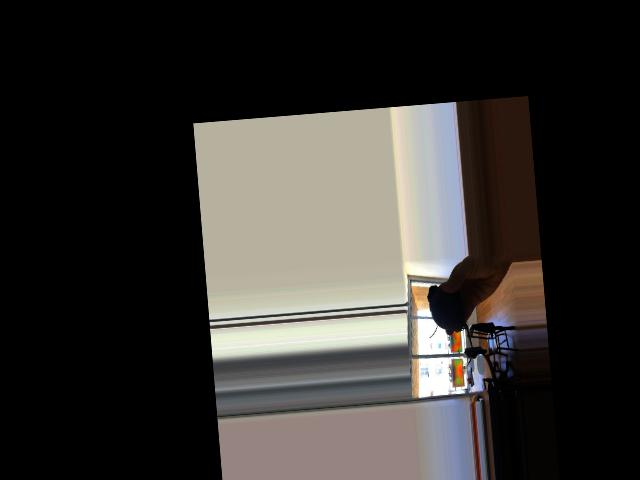beet: (426, 282, 474, 369)
